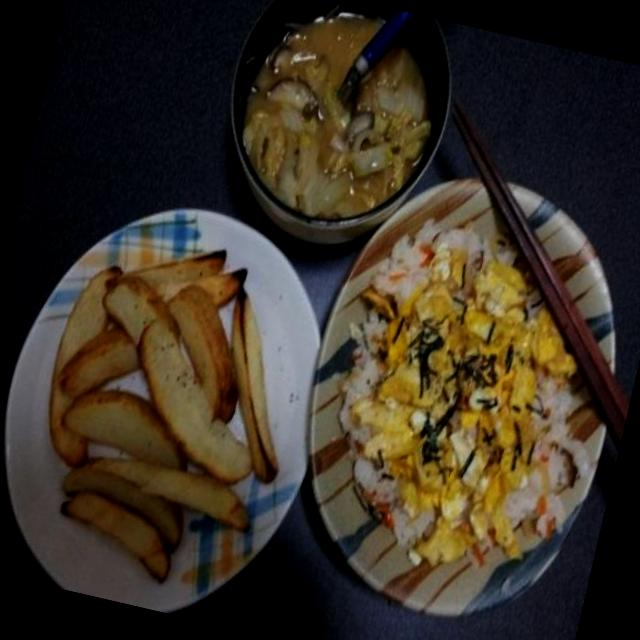French Fries: (13, 210, 320, 577)
